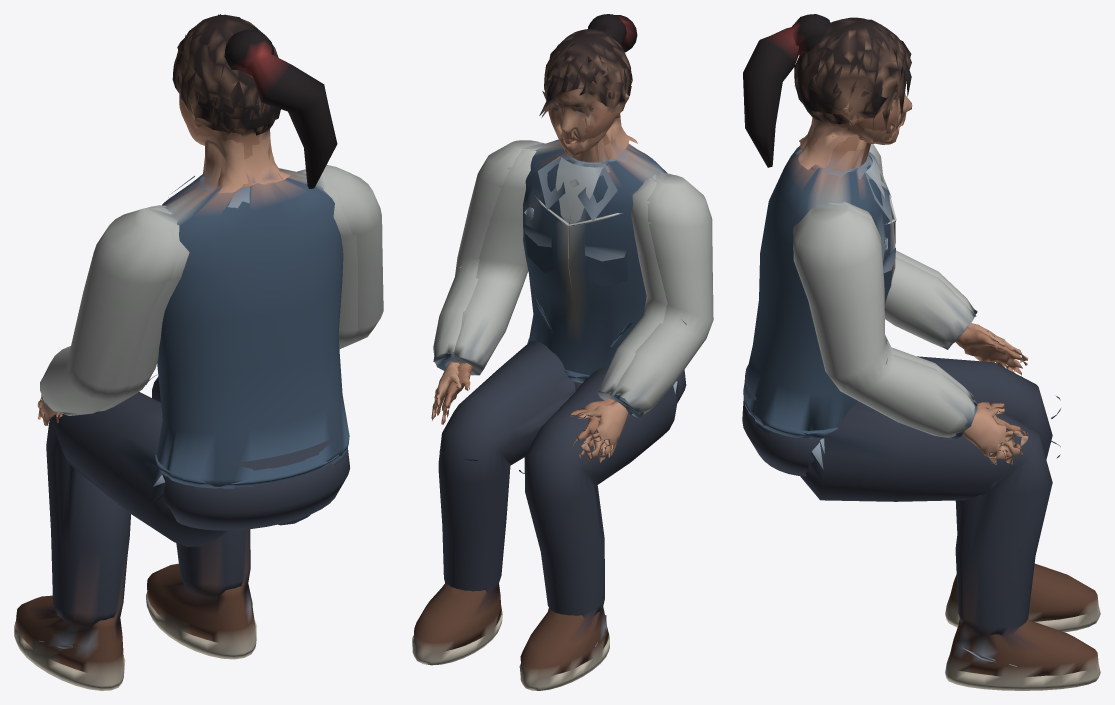
File: classmates.glb
The picture shows the model from 3 angles, left to right: view 1: azimuth 30°, elevation 25°; view 2: azimuth 150°, elevation 25°; view 3: azimuth 270°, elevation 25°; orthographic projection. The views are drawn at different scales.
Visible parts, largest first — view 1: SeatedLin, SeatedQiao; view 2: SeatedLin, SeatedQiao; view 3: SeatedLin, SeatedQiao.
Boxes of the visible parts, left/top/right/bottom form: SeatedLin: left=14, top=14, right=383, bottom=690; SeatedQiao: left=53, top=29, right=358, bottom=541; SeatedLin: left=412, top=29, right=713, bottom=690; SeatedQiao: left=441, top=14, right=686, bottom=460; SeatedLin: left=742, top=17, right=1100, bottom=690; SeatedQiao: left=743, top=14, right=1027, bottom=499.
Size of the model in its own units: 0.6239 by 1.36 by 0.6959.
